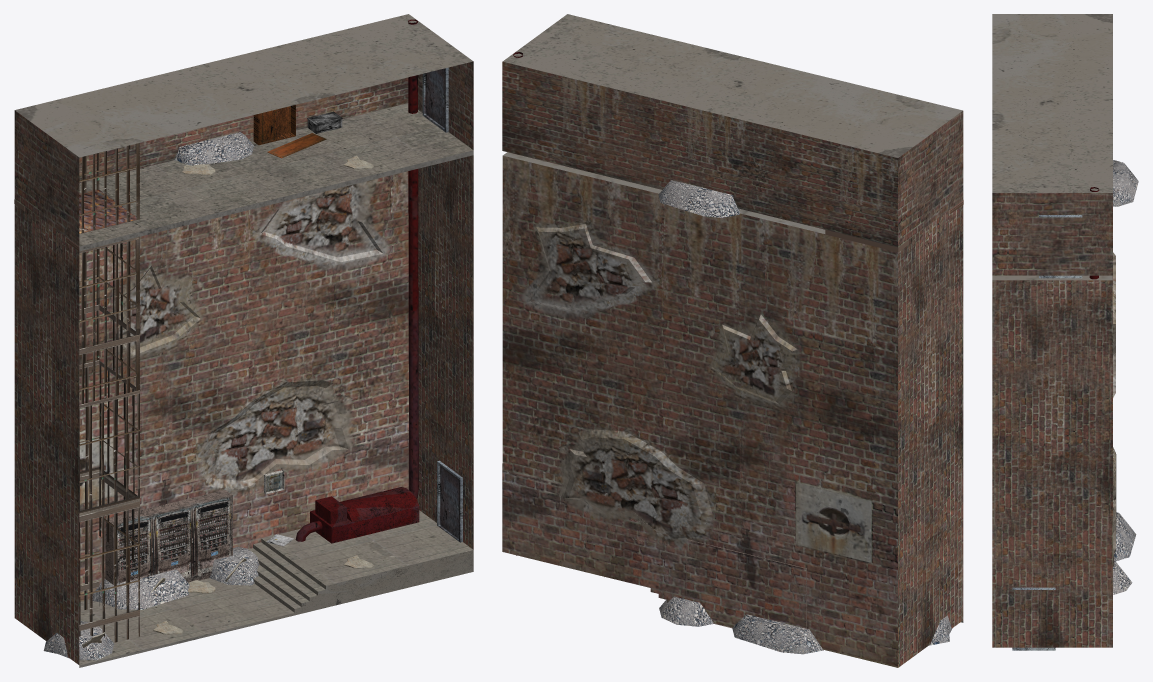
Rendered from Room4.FBX.
3 views of the same model, side by side, from view 1: azimuth 30°, elevation 25°; view 2: azimuth 150°, elevation 25°; view 3: azimuth 270°, elevation 25° (orthographic). The views are drawn at different scales.
Visible parts, largest first — view 1: Scense5(Collider), Mebel(Collider), Lift(Collider), Musor(Collider), Platforma(Collider); view 2: Scense5(Collider), Musor(Collider); view 3: Scense5(Collider), Musor(Collider), Mebel(Collider).
Part boxes in pixels (x1,y1,x2,y2): Scense5(Collider): [14, 14, 473, 667]; Mebel(Collider): [105, 19, 462, 584]; Lift(Collider): [79, 143, 139, 642]; Musor(Collider): [43, 132, 373, 660]; Platforma(Collider): [79, 190, 136, 233]; Scense5(Collider): [502, 14, 963, 667]; Musor(Collider): [658, 180, 952, 654]; Scense5(Collider): [992, 14, 1116, 647]; Musor(Collider): [1113, 160, 1138, 594]; Mebel(Collider): [1012, 187, 1114, 650].
Bounding box in the file's own units: 62.18 × 74.13 × 20.65.
5 materials, 5 textured.
